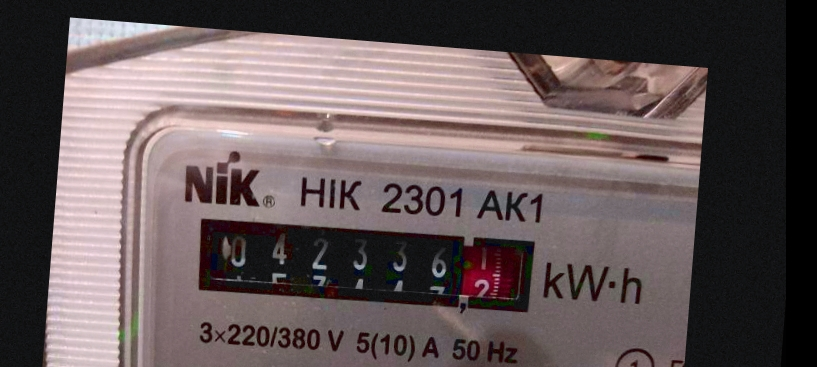0: (226, 232, 249, 268)
1: (475, 243, 490, 272)
2: (307, 234, 330, 272), (470, 276, 490, 299)
3: (348, 234, 370, 273), (386, 237, 409, 274)
4: (268, 228, 290, 267)
6: (425, 243, 450, 279)
screen: (186, 204, 544, 324)
